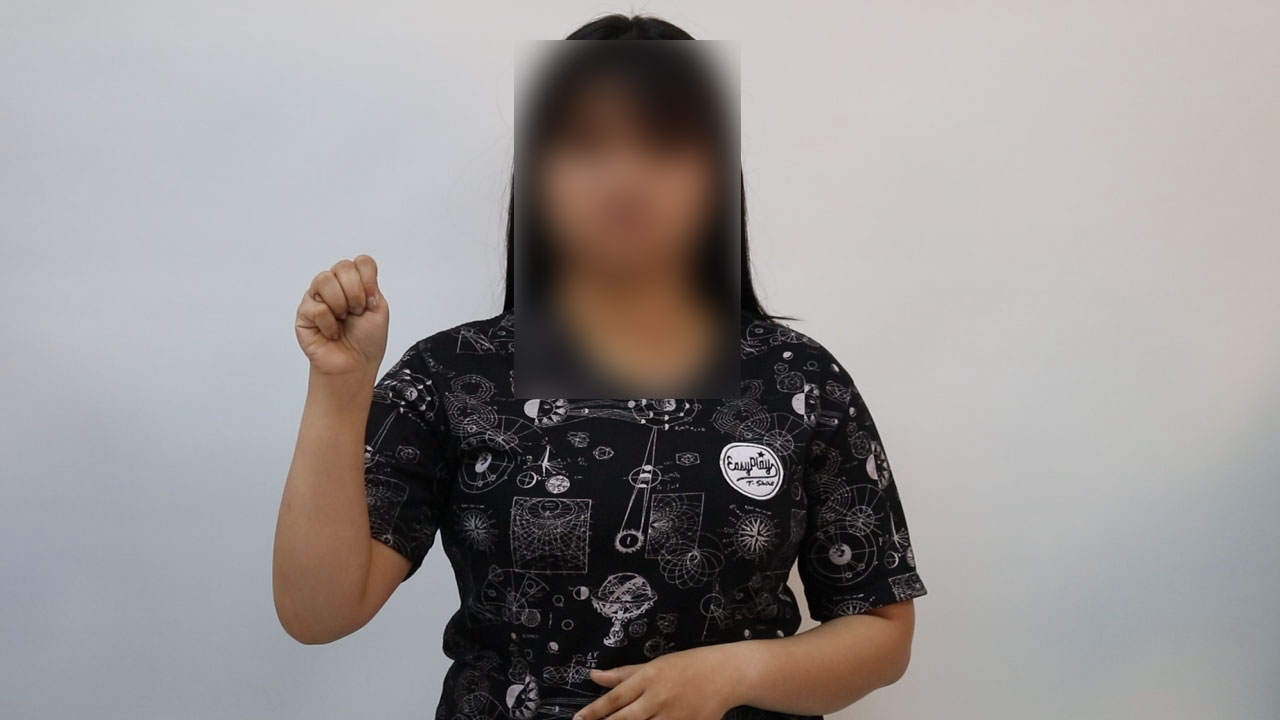mor: (286, 245, 402, 400)
